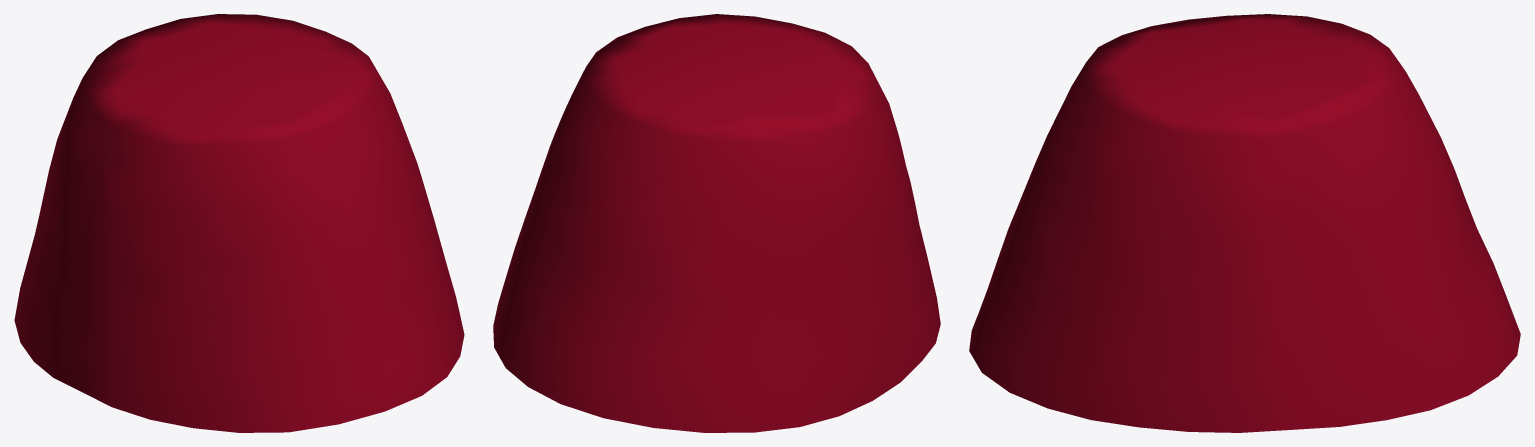
The model's file is fez_hat_short.fbx.
3 views of the same model, side by side, from view 1: azimuth 30°, elevation 25°; view 2: azimuth 150°, elevation 25°; view 3: azimuth 270°, elevation 25° (orthographic). The views are drawn at different scales.
Parts seen in each view (by area): view 1: fez_hat_short; view 2: fez_hat_short; view 3: fez_hat_short.
Part boxes in pixels (box(x1,y1,x2,y2)): fez_hat_short: box(14, 14, 464, 432); fez_hat_short: box(493, 14, 940, 432); fez_hat_short: box(969, 14, 1520, 432).
Size of the model in its own units: 15.15 by 10.63 by 18.08.
